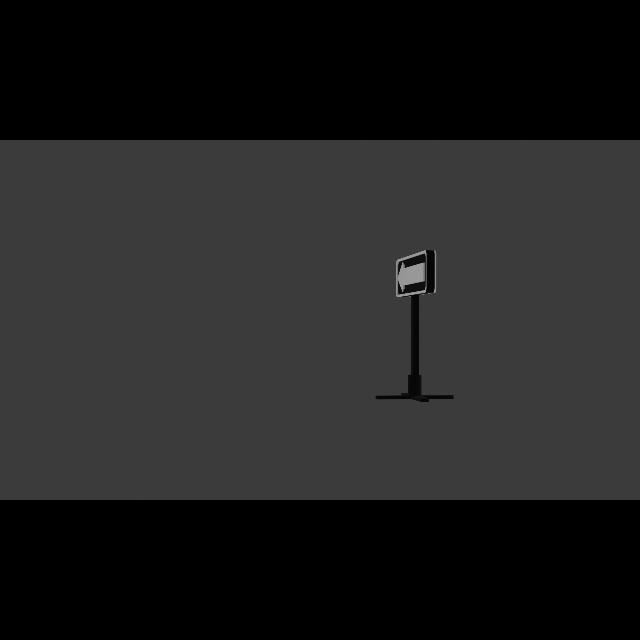sign_oneway_left: (394, 250, 438, 301)
